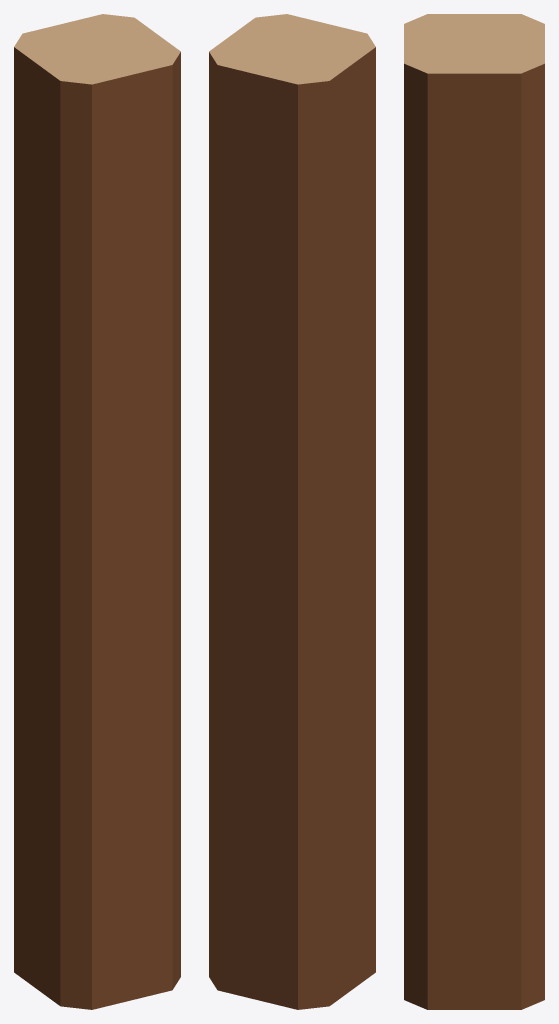
Rendered from Prop_Decorative_Fence_Post.obj.
3 views of the same model, side by side, from view 1: azimuth 30°, elevation 25°; view 2: azimuth 150°, elevation 25°; view 3: azimuth 270°, elevation 25° (orthographic).
Parts seen in each view (by area): view 1: Fence_Post_Side, Fence_Post_Top; view 2: Fence_Post_Side, Fence_Post_Top; view 3: Fence_Post_Side, Fence_Post_Top.
Part boxes in pixels (x1=…): Fence_Post_Side: x1=14, y1=47, x2=180, y2=1009; Fence_Post_Top: x1=14, y1=14, x2=180, y2=84; Fence_Post_Side: x1=209, y1=47, x2=375, y2=1009; Fence_Post_Top: x1=209, y1=14, x2=375, y2=84; Fence_Post_Side: x1=404, y1=63, x2=544, y2=1009; Fence_Post_Top: x1=404, y1=14, x2=544, y2=73.
Bounding box in the file's own units: 0.15 × 1.1 × 0.15.
